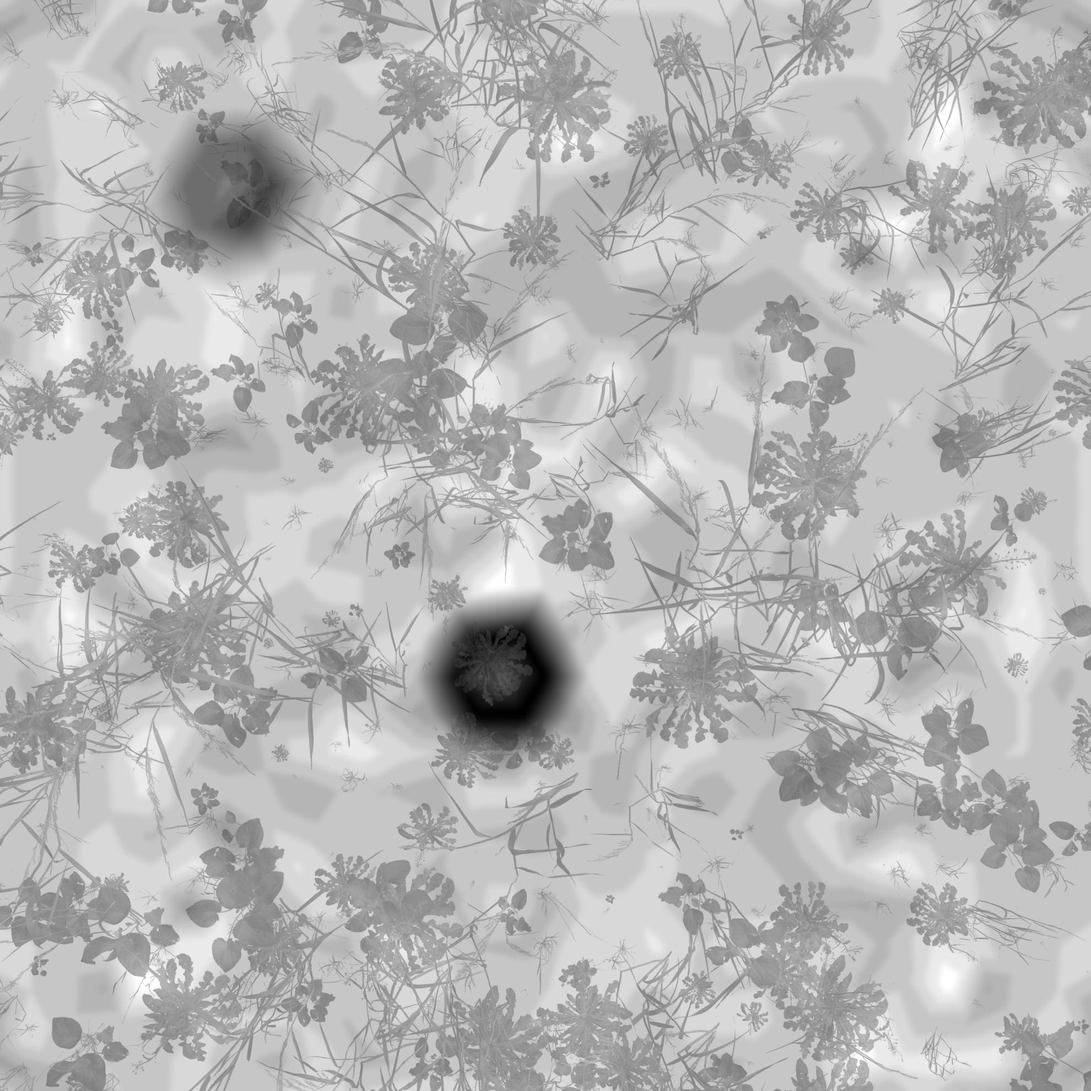landmine: (149, 115, 315, 259), (433, 600, 580, 758)
